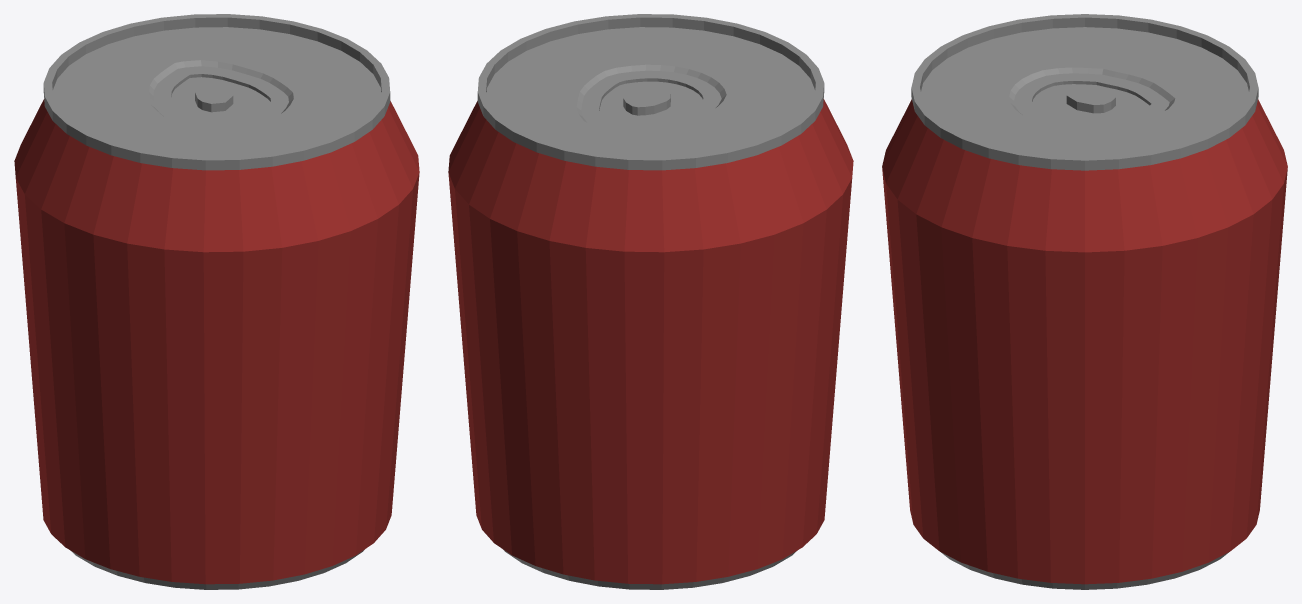
Rendered from Item_SweetDRed.fbx.
3 renders of one model, left to right at view 1: azimuth 30°, elevation 25°; view 2: azimuth 150°, elevation 25°; view 3: azimuth 270°, elevation 25°, orthographic.
Visible parts, largest first — view 1: Cylinder; view 2: Cylinder; view 3: Cylinder.
Part boxes in pixels (x1,y1,x2,y2): Cylinder: [14, 14, 419, 589]; Cylinder: [448, 14, 853, 589]; Cylinder: [882, 14, 1287, 589].
Size of the model in its own units: 193 by 227 by 193.
